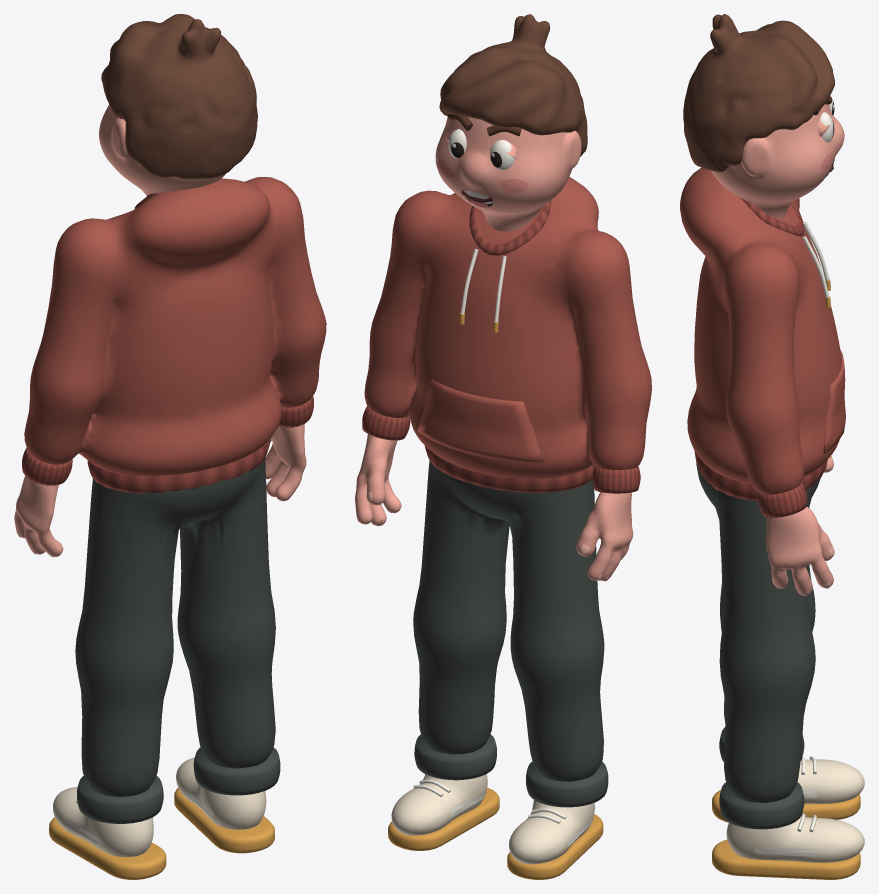
Rendered from human_C.glb.
The picture shows the model from 3 angles, left to right: view 1: azimuth 30°, elevation 25°; view 2: azimuth 150°, elevation 25°; view 3: azimuth 270°, elevation 25°; orthographic projection. The views are drawn at different scales.
Visible parts, largest first — view 1: Top, Pants, Hair, Hem, UpperL, HeadSkin, UpperR, SoleL, HandL, PantCuffL, PantCuffR, HandR (+3 smaller); view 2: Top, Pants, Hair, HeadSkin, Pocket, UpperR, HandL, UpperL, HandR, Hem, PantCuffL, PantCuffR (+5 smaller); view 3: Top, Pants, Hair, HeadSkin, UpperR, HandR, SoleR, PantCuffR, UpperL, Pocket, Hem, CuffR (+3 smaller).
Part boxes in pixels (x1,y1,x2,y2): Top: (24,177,326,476); Pants: (75,458,275,796); Hair: (101,14,257,178); Hem: (87,439,269,493); UpperL: (53,787,153,856); HeadSkin: (99,104,225,195); UpperR: (176,757,266,829); SoleL: (49,817,166,879); HandL: (14,475,63,556); PantCuffL: (77,775,163,823); PantCuffR: (193,747,280,795); HandR: (265,424,306,501); Top: (364,177,651,478); Pants: (413,461,604,781); Hair: (439,14,587,156); HeadSkin: (435,116,581,231); Pocket: (417,379,543,462); UpperR: (391,774,487,835); HandL: (576,492,633,580); UpperL: (509,800,594,864); HandR: (355,434,401,526); Hem: (424,445,594,492); PantCuffL: (526,761,608,807); PantCuffR: (414,734,496,780); Top: (680,168,841,494); Pants: (696,463,820,802); Hair: (683,14,834,171); HeadSkin: (710,104,844,218); UpperR: (726,816,864,862); HandR: (766,506,833,594); SoleR: (712,839,860,879); PantCuffR: (719,782,804,829); UpperL: (797,759,864,803); Pocket: (823,349,845,453); Hem: (694,451,827,500); CuffR: (757,482,807,517).
Size of the model in its own units: 0.6605 by 1.86 by 0.3776.
Materials: 19 (1 with a texture image).
